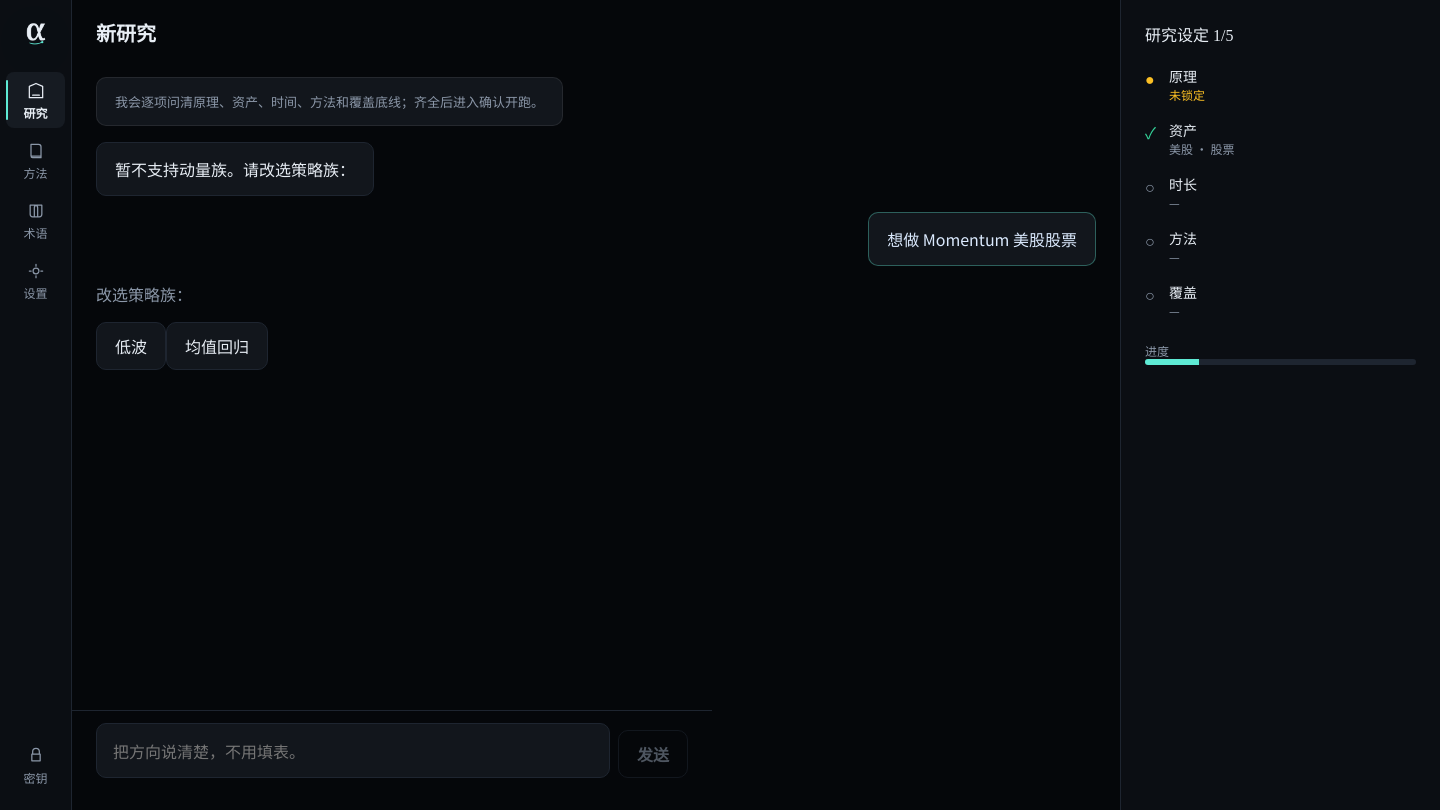
it: draft chat structure › keeps the assistant on the left, the user on the right, chips under the thread, and a fixed send
Expected: the button with test id "dialogue-send" is disabled, [618,730,688,778]
Expected: the form with test id "draft-composer" is shown, [72,710,712,809]
Type "低波" into the text box with test id "dialogue-input" at (353, 750), box [96,723,610,778]
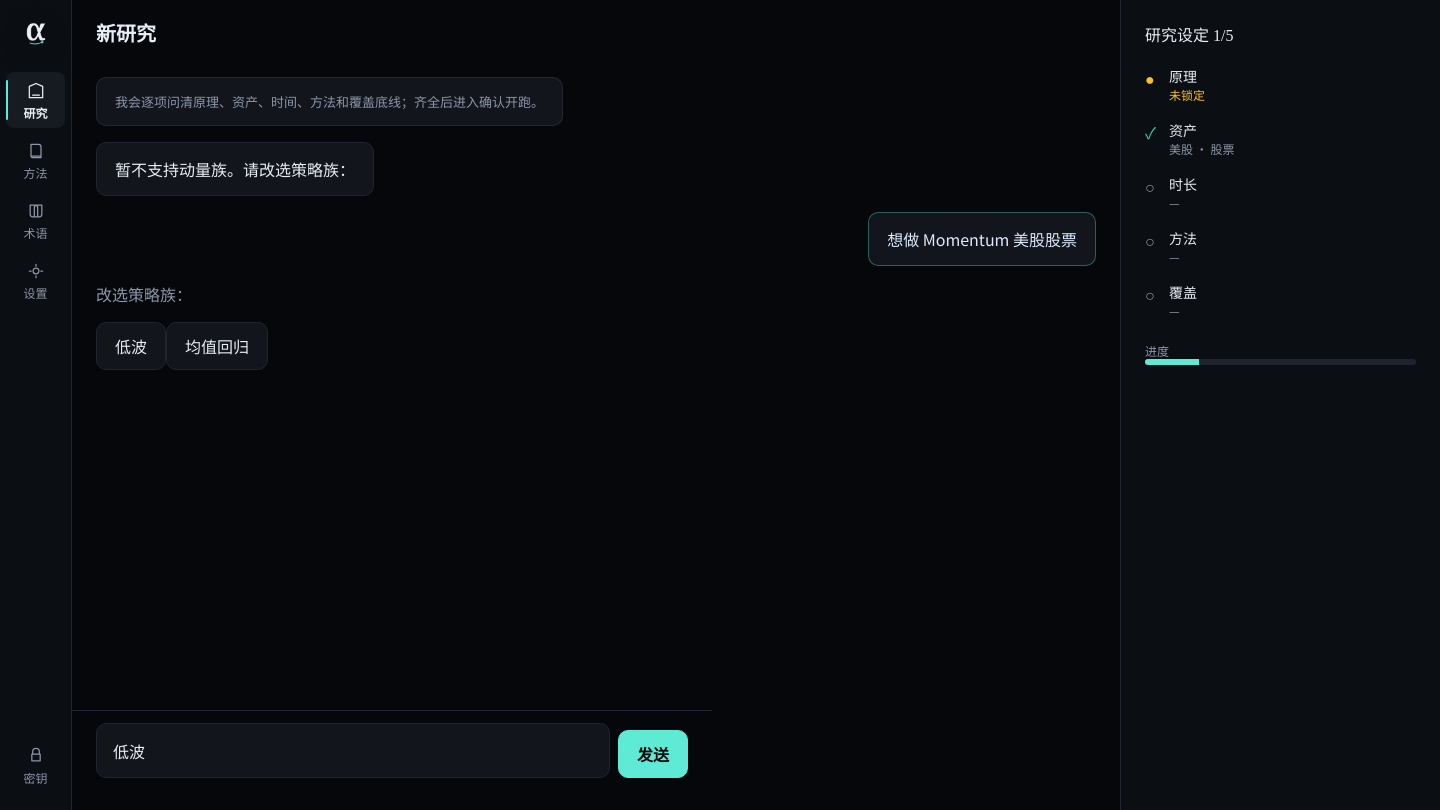
Expected: the button with test id "dialogue-send" is enabled, [618,730,688,778]
